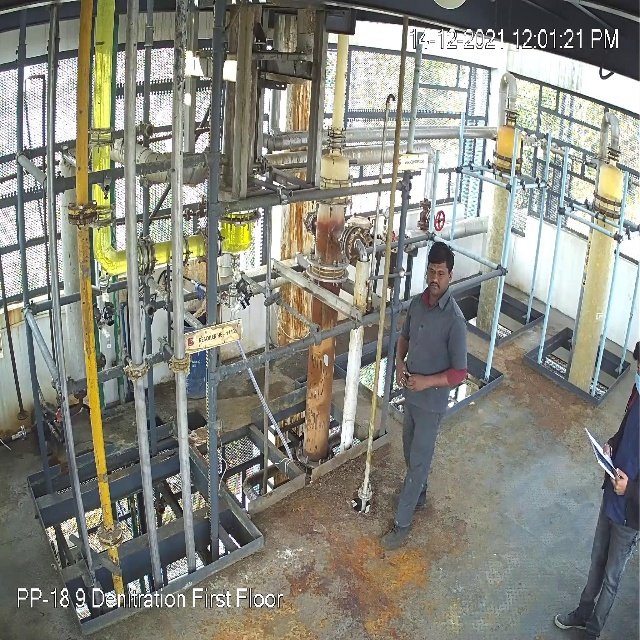Sin_gafas: (426, 265, 449, 280)
Sin_mascara: (425, 278, 445, 297)
